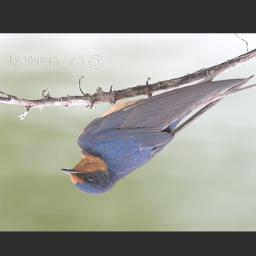Swallow: (59, 73, 256, 196)
